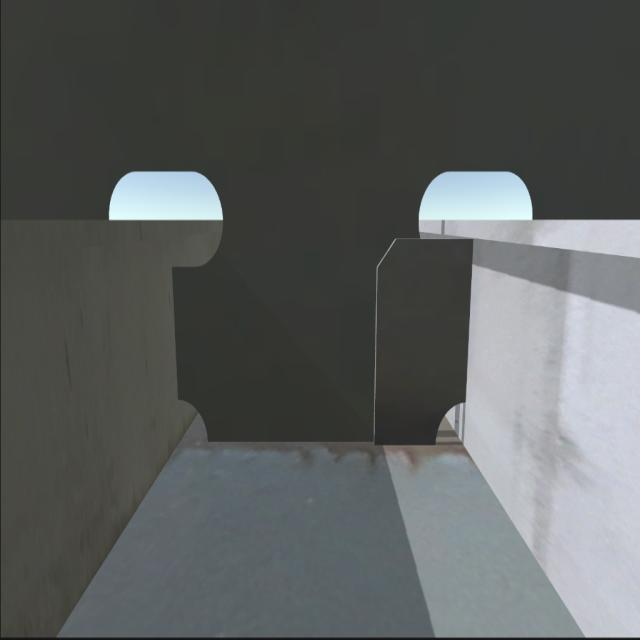fillet_hole: (429, 392, 468, 450), (174, 394, 212, 449)
fillet_yong_jeop_jang: (203, 432, 437, 459)
longi_yong_jeop_jang: (166, 264, 189, 404), (461, 234, 474, 412)
plate_CP03: (374, 232, 463, 443)
